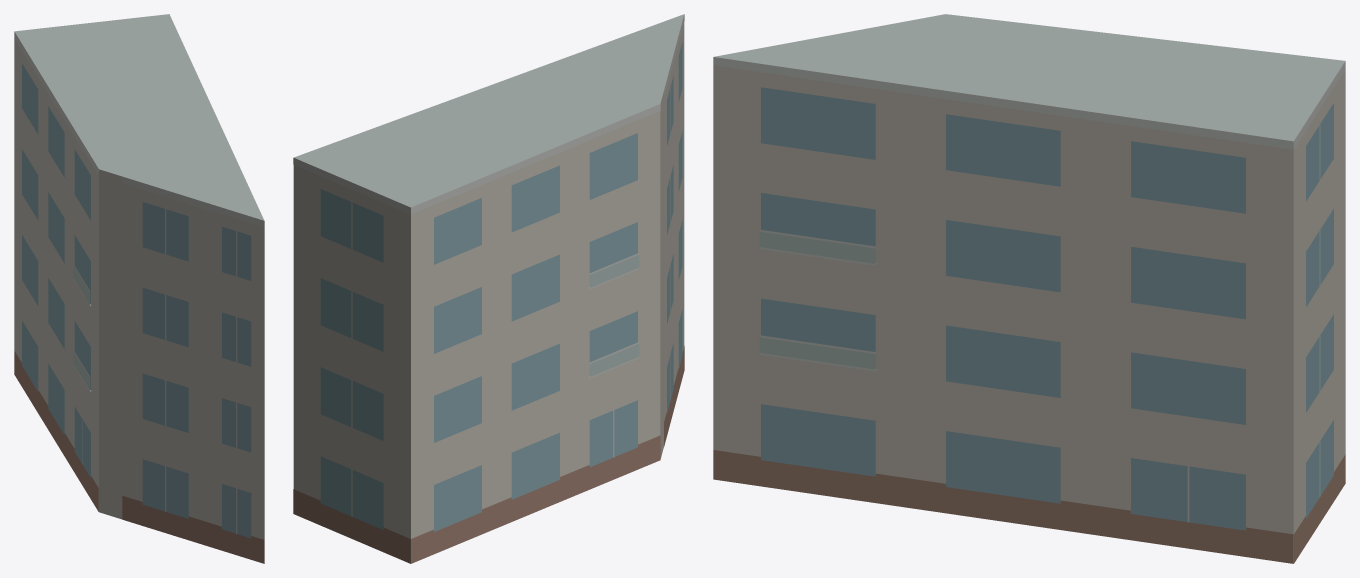
The model's file is survey-upis-32765725.glb.
3 renders of one model, left to right at view 1: azimuth 30°, elevation 25°; view 2: azimuth 150°, elevation 25°; view 3: azimuth 270°, elevation 25°, orthographic. The views are drawn at different scales.
Parts seen in each view (by area): view 1: survey-upis-32765725.tmp; view 2: survey-upis-32765725.tmp; view 3: survey-upis-32765725.tmp.
Part boxes in pixels (x1=…): survey-upis-32765725.tmp: x1=14, y1=14, x2=264, y2=563; survey-upis-32765725.tmp: x1=293, y1=14, x2=684, y2=563; survey-upis-32765725.tmp: x1=713, y1=14, x2=1345, y2=563.
Bounding box in the file's own units: 7.96 × 12.3 × 16.69.
